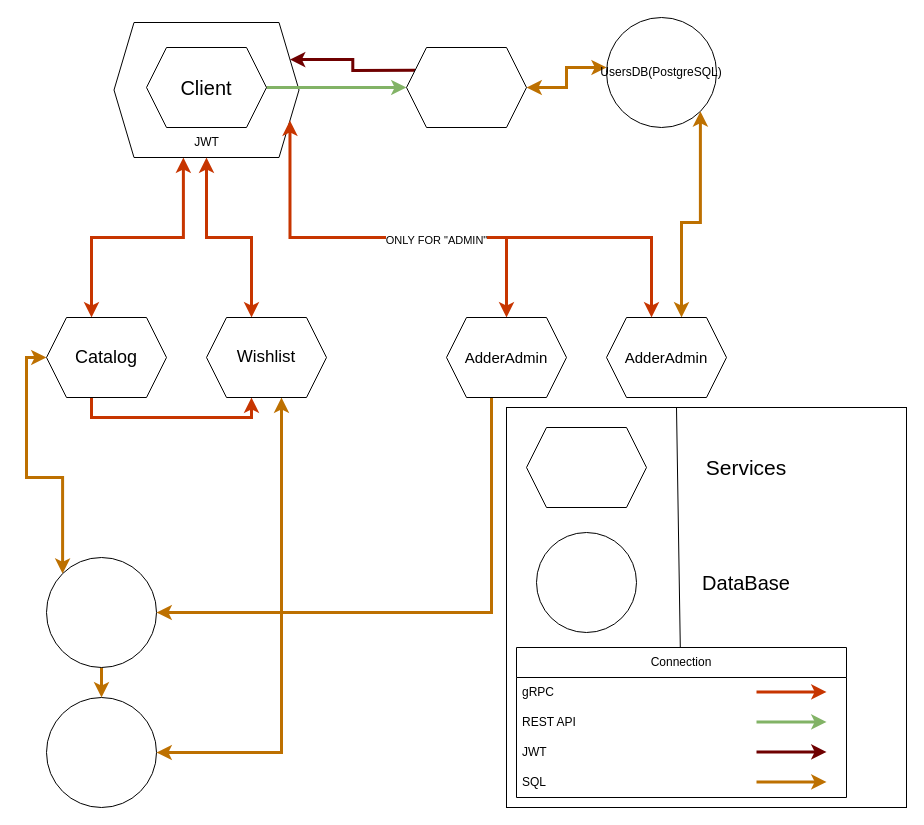
The diagram is 924 pixels wide and 825 high, and some of its shapes have lost their labels. Each missing label, with the centre of its shape:
"Authorization/Authefication" belongs at point 466,87.
"CatalogDB(PostgreSQL)" belongs at point 101,612.
"WishlistDB(PostgreSQL)" belongs at point 101,752.
